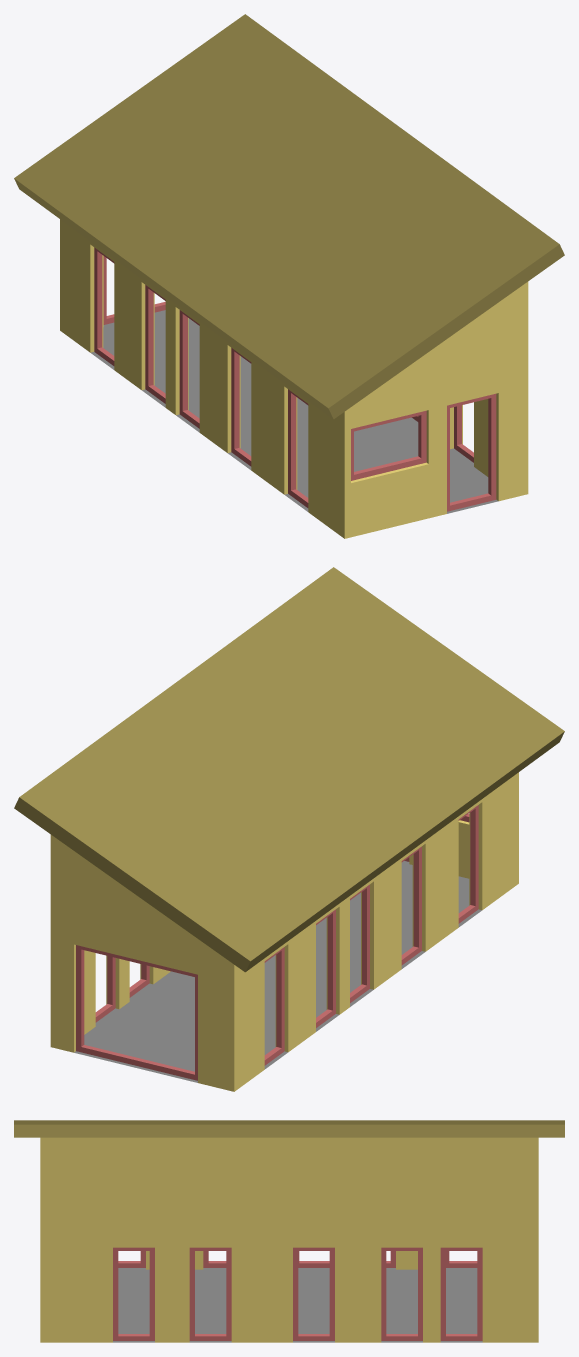
The model's file is result.glb.
The picture shows the model from 3 angles, top to bottom: view 1: azimuth 30°, elevation 25°; view 2: azimuth 150°, elevation 25°; view 3: azimuth 270°, elevation 25°; orthographic projection. The views are drawn at different scales.
Parts seen in each view (by area): view 1: 6feb7e84-6083-469a-89e1-7f4c52adf29f__undefined, fcd3f31f-fc26-47a7-ab64-e85b7aa4c482__undefined, 4303ca64-d478-4da1-887a-1f2ff4e3579e__Plane_14, 7b7a64fa-9335-4ba2-bc9a-b28b1b2fcd32__Box, 898b0a16-0deb-4d9f-abd7-786cec329c5d__Box_3, 257ed78e-bf03-4eea-9235-5058b2a571ae__Box_15, 32d00e4f-af16-43c2-bc81-429d75c39892__Box_18, 77369c87-b9a3-438d-a0e4-2982841caa4d__Box_21, 734492fb-cc68-46f1-9ca7-500ca5879ab4__Box_12, 60a76682-7382-4bfe-b41b-dedc2809c221__Box_24; view 2: 6feb7e84-6083-469a-89e1-7f4c52adf29f__undefined, fcd3f31f-fc26-47a7-ab64-e85b7aa4c482__undefined, 4303ca64-d478-4da1-887a-1f2ff4e3579e__Plane_14, 58887b66-fbd6-4283-b8c1-3266e44cb64c__Box_9, 734492fb-cc68-46f1-9ca7-500ca5879ab4__Box_12, 257ed78e-bf03-4eea-9235-5058b2a571ae__Box_15, 60a76682-7382-4bfe-b41b-dedc2809c221__Box_24, 77369c87-b9a3-438d-a0e4-2982841caa4d__Box_21, 32d00e4f-af16-43c2-bc81-429d75c39892__Box_18; view 3: fcd3f31f-fc26-47a7-ab64-e85b7aa4c482__undefined, 4303ca64-d478-4da1-887a-1f2ff4e3579e__Plane_14, 6feb7e84-6083-469a-89e1-7f4c52adf29f__undefined, 91e199e1-0a2c-4fa8-a30c-f6708f27f8bc__Box_30, 5ed9d50d-23e0-457e-b592-84575c8bad81__Box_39, 4f30f331-dddc-4354-acf7-bddd792c363f__Box_27, b86fe5a9-306f-41d9-b283-6c2cf2d09234__Box_33, 942dac56-6dba-4a5c-b296-3fc4725dd9c0__Box_36.
Boxes of the visible parts, <box> form: 6feb7e84-6083-469a-89e1-7f4c52adf29f__undefined: <box>14,14,564,419</box>; fcd3f31f-fc26-47a7-ab64-e85b7aa4c482__undefined: <box>60,219,528,538</box>; 4303ca64-d478-4da1-887a-1f2ff4e3579e__Plane_14: <box>90,310,498,513</box>; 7b7a64fa-9335-4ba2-bc9a-b28b1b2fcd32__Box: <box>447,393,496,511</box>; 898b0a16-0deb-4d9f-abd7-786cec329c5d__Box_3: <box>351,410,426,480</box>; 257ed78e-bf03-4eea-9235-5058b2a571ae__Box_15: <box>231,348,251,466</box>; 32d00e4f-af16-43c2-bc81-429d75c39892__Box_18: <box>179,310,199,428</box>; 77369c87-b9a3-438d-a0e4-2982841caa4d__Box_21: <box>145,285,165,403</box>; 734492fb-cc68-46f1-9ca7-500ca5879ab4__Box_12: <box>288,389,308,507</box>; 60a76682-7382-4bfe-b41b-dedc2809c221__Box_24: <box>94,247,114,365</box>; 6feb7e84-6083-469a-89e1-7f4c52adf29f__undefined: <box>14,567,564,972</box>; fcd3f31f-fc26-47a7-ab64-e85b7aa4c482__undefined: <box>50,772,518,1091</box>; 4303ca64-d478-4da1-887a-1f2ff4e3579e__Plane_14: <box>74,861,481,1082</box>; 58887b66-fbd6-4283-b8c1-3266e44cb64c__Box_9: <box>76,945,197,1080</box>; 734492fb-cc68-46f1-9ca7-500ca5879ab4__Box_12: <box>458,805,478,923</box>; 257ed78e-bf03-4eea-9235-5058b2a571ae__Box_15: <box>401,846,421,965</box>; 60a76682-7382-4bfe-b41b-dedc2809c221__Box_24: <box>264,947,284,1065</box>; 77369c87-b9a3-438d-a0e4-2982841caa4d__Box_21: <box>316,909,335,1027</box>; 32d00e4f-af16-43c2-bc81-429d75c39892__Box_18: <box>350,884,369,1002</box>; fcd3f31f-fc26-47a7-ab64-e85b7aa4c482__undefined: <box>40,1137,538,1342</box>; 4303ca64-d478-4da1-887a-1f2ff4e3579e__Plane_14: <box>113,1268,482,1342</box>; 6feb7e84-6083-469a-89e1-7f4c52adf29f__undefined: <box>14,1120,564,1137</box>; 91e199e1-0a2c-4fa8-a30c-f6708f27f8bc__Box_30: <box>189,1247,231,1340</box>; 5ed9d50d-23e0-457e-b592-84575c8bad81__Box_39: <box>440,1247,482,1340</box>; 4f30f331-dddc-4354-acf7-bddd792c363f__Box_27: <box>113,1247,154,1340</box>; b86fe5a9-306f-41d9-b283-6c2cf2d09234__Box_33: <box>293,1247,334,1340</box>; 942dac56-6dba-4a5c-b296-3fc4725dd9c0__Box_36: <box>381,1247,422,1340</box>.
Size of the model in its own units: 457 by 474 by 1052.
